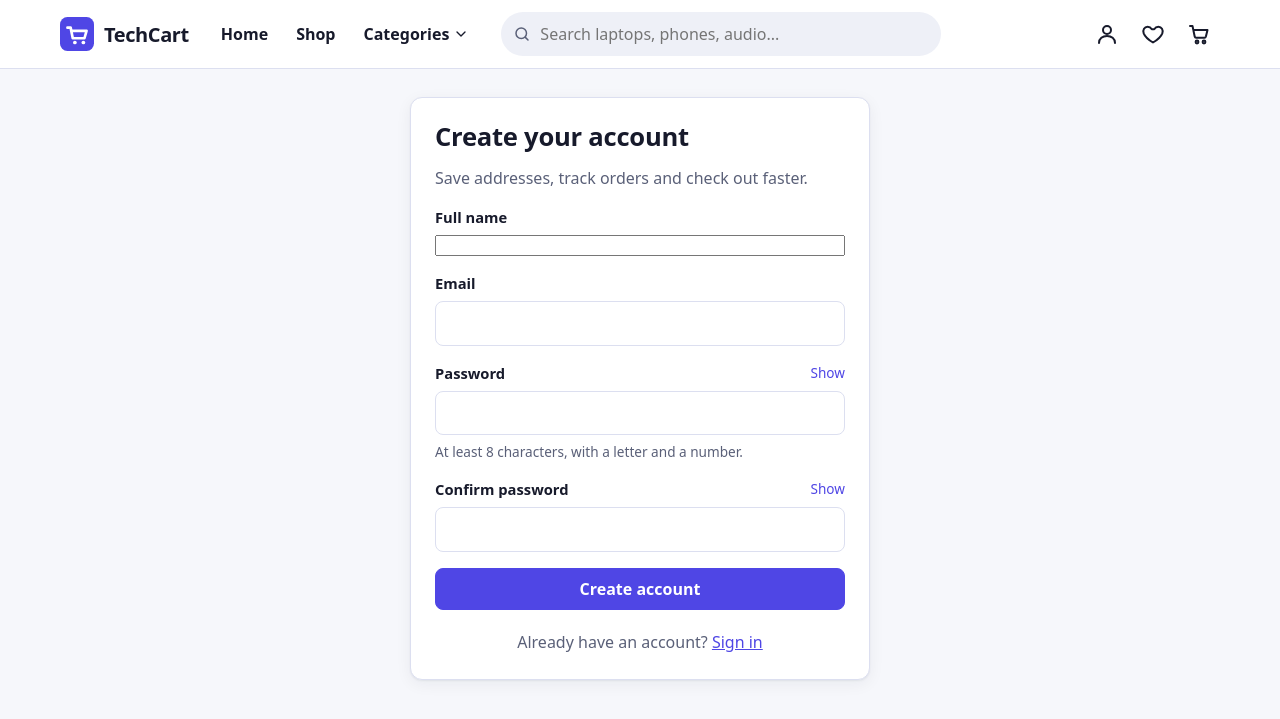
Test: adding a product › is reachable from the account navigation and starts empty
The image size is (1280, 719).
Type "Ada Lovelace" into the field labelled "Full name".
click(640, 246); type("Ada Lovelace")  # box [435,235,845,256]
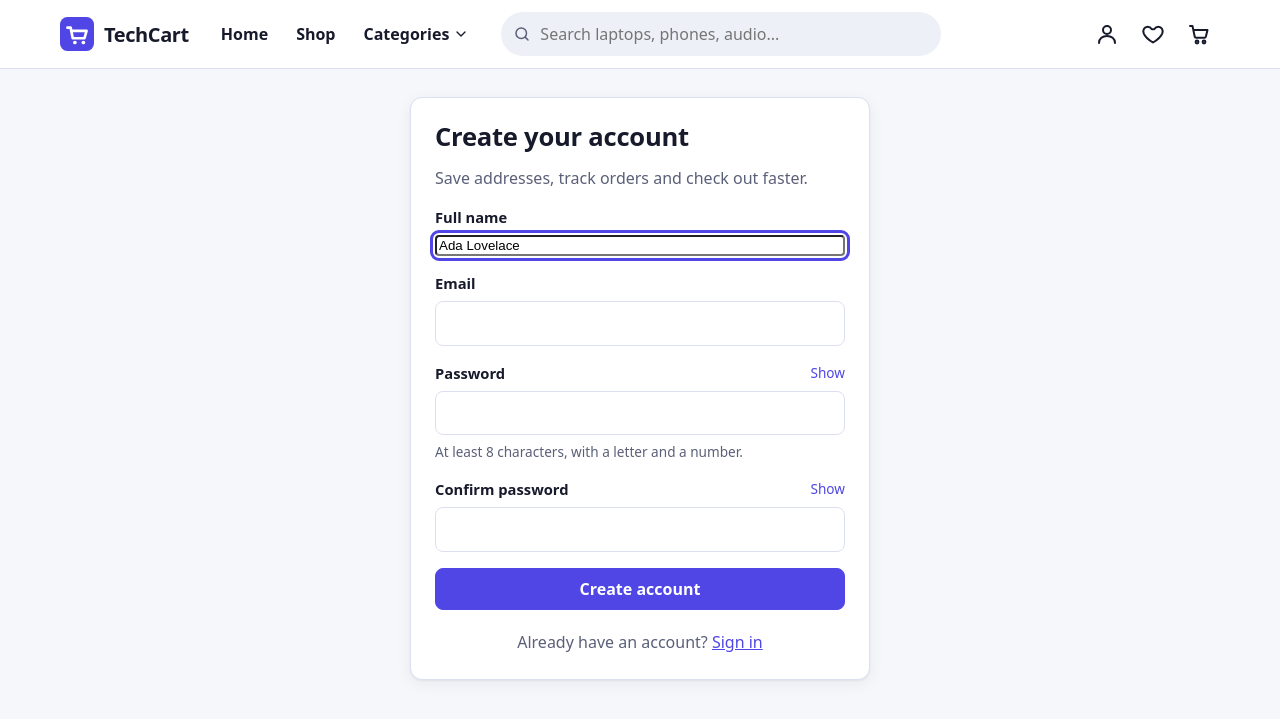
Type "ada@example.com" into the field labelled "Email".
click(640, 323); type("ada@example.com")  # box [435,301,845,346]
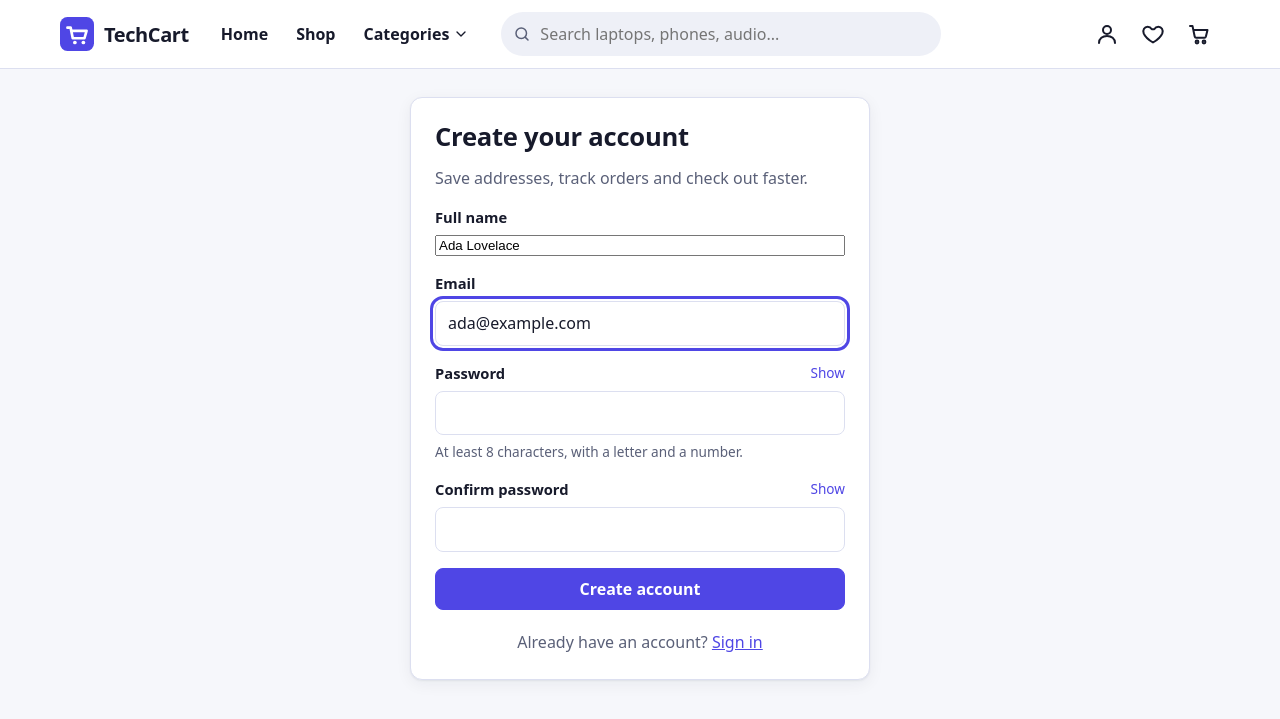
Type "correct8horse" into the password field labelled "Password".
click(640, 413); type("correct8horse")  # box [435,390,845,435]
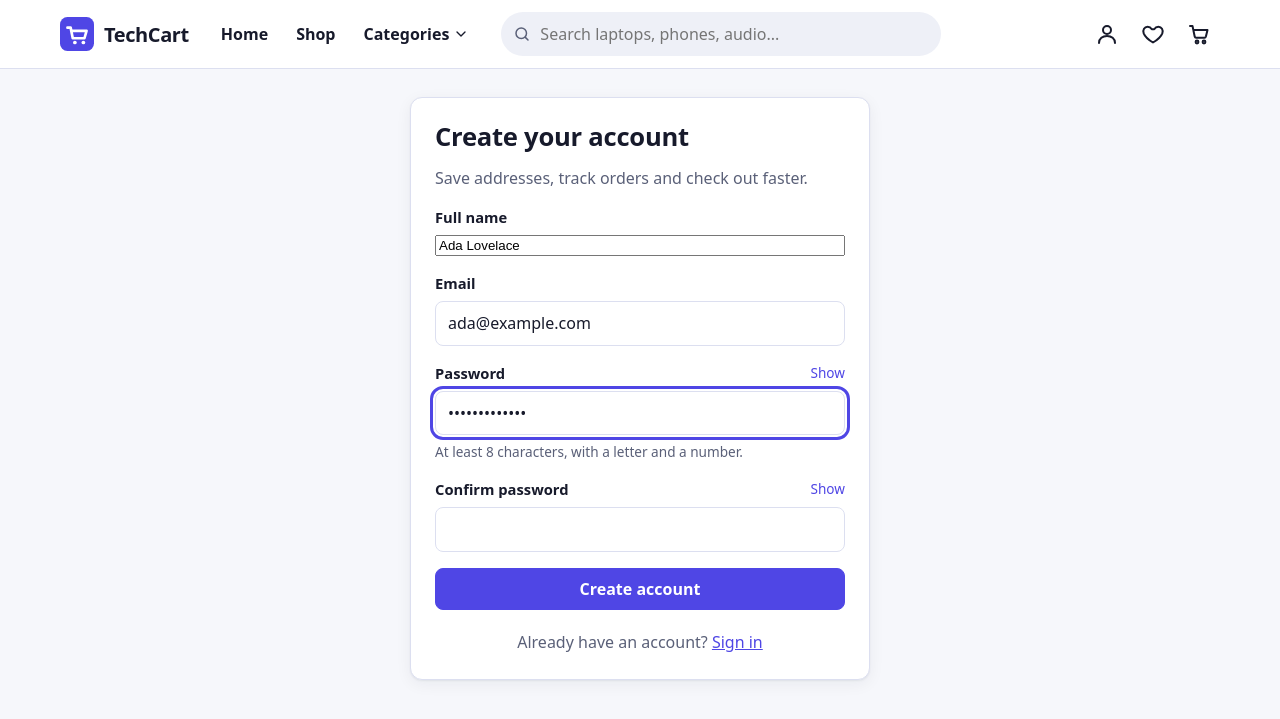
Type "correct8horse" into the password field labelled "Confirm password".
click(640, 530); type("correct8horse")  # box [435,507,845,552]
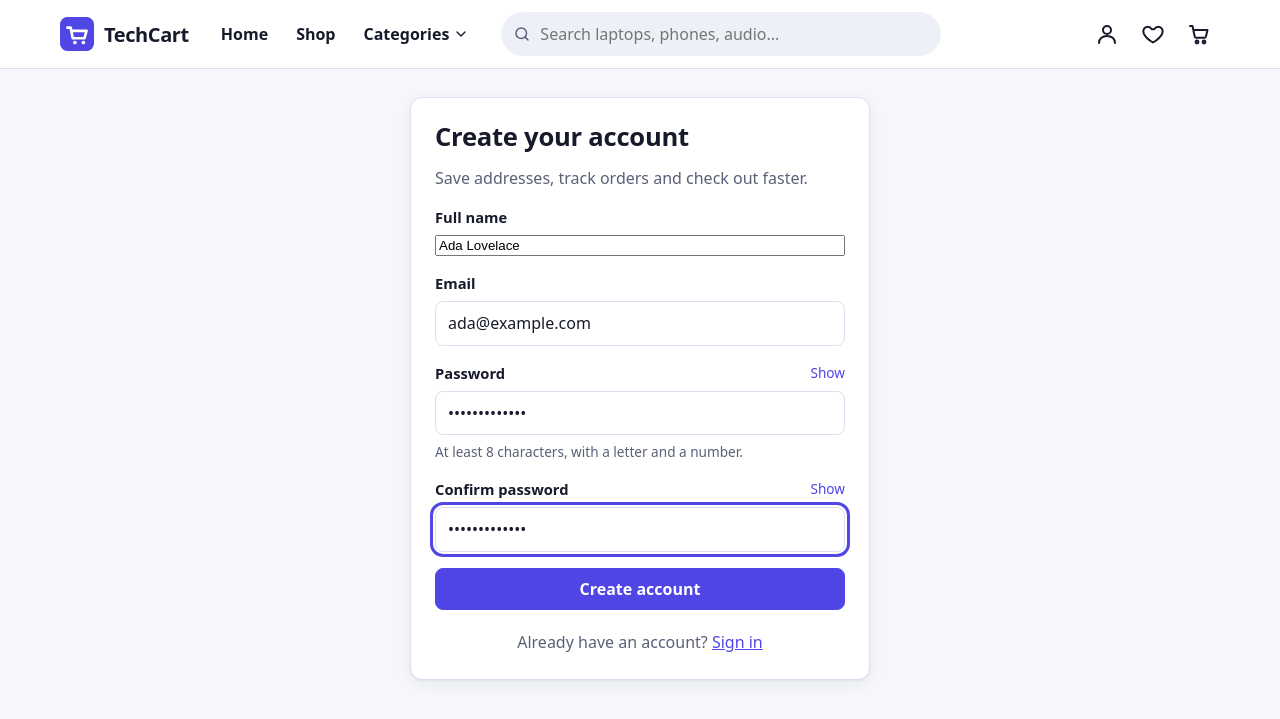
Click the button "Create account".
click(640, 589)  # box [435,568,845,610]
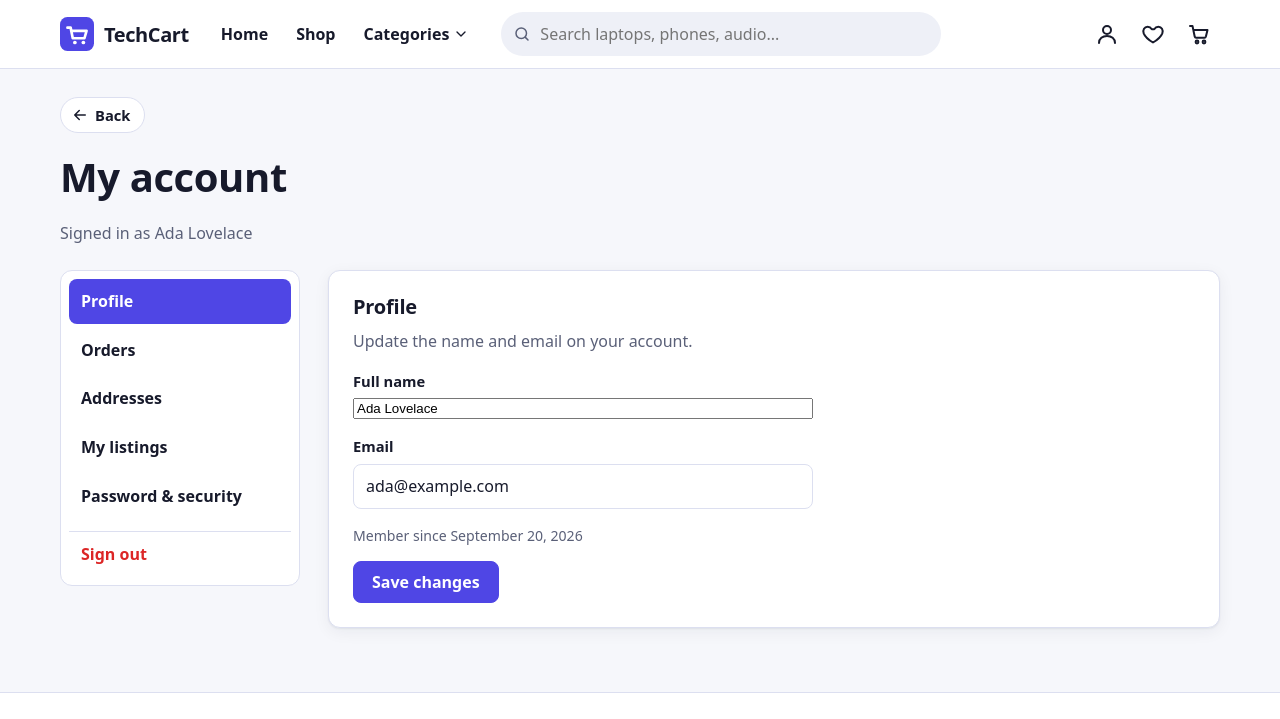
Expected: the heading "My account" is shown, [60,149,287,204]
Click the link "My listings".
click(124, 447)  # box [81,436,168,458]
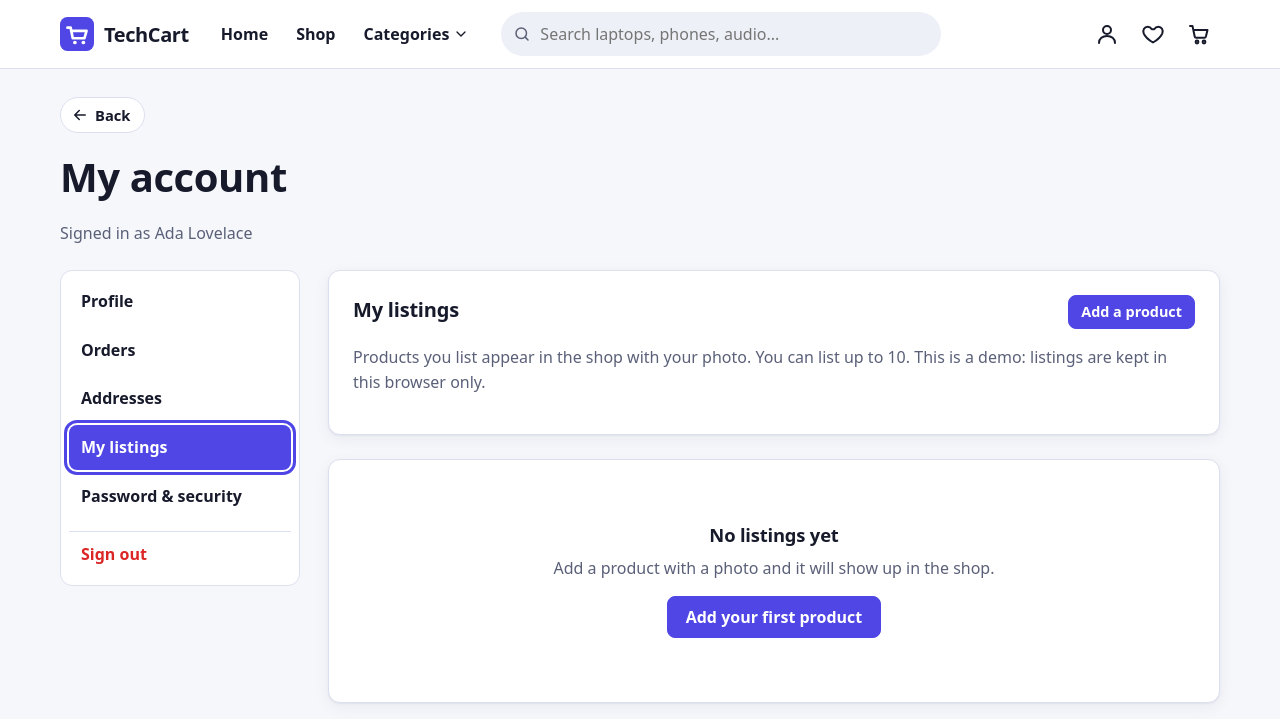
Expected: the heading "No listings yet" is shown, [709,522,839,547]
Expected: the text "kept in this browser only" is shown, [353,346,1167,393]
